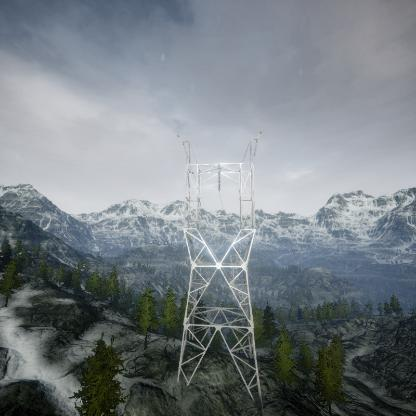tower: (169, 135, 262, 406)
